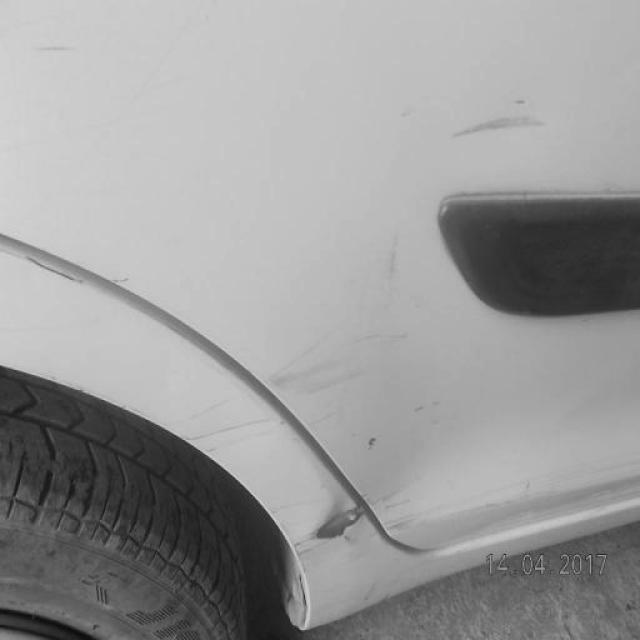dent: (263, 334, 415, 401)
scratch: (443, 103, 555, 148), (311, 503, 367, 544), (381, 228, 408, 289), (30, 36, 77, 61)
